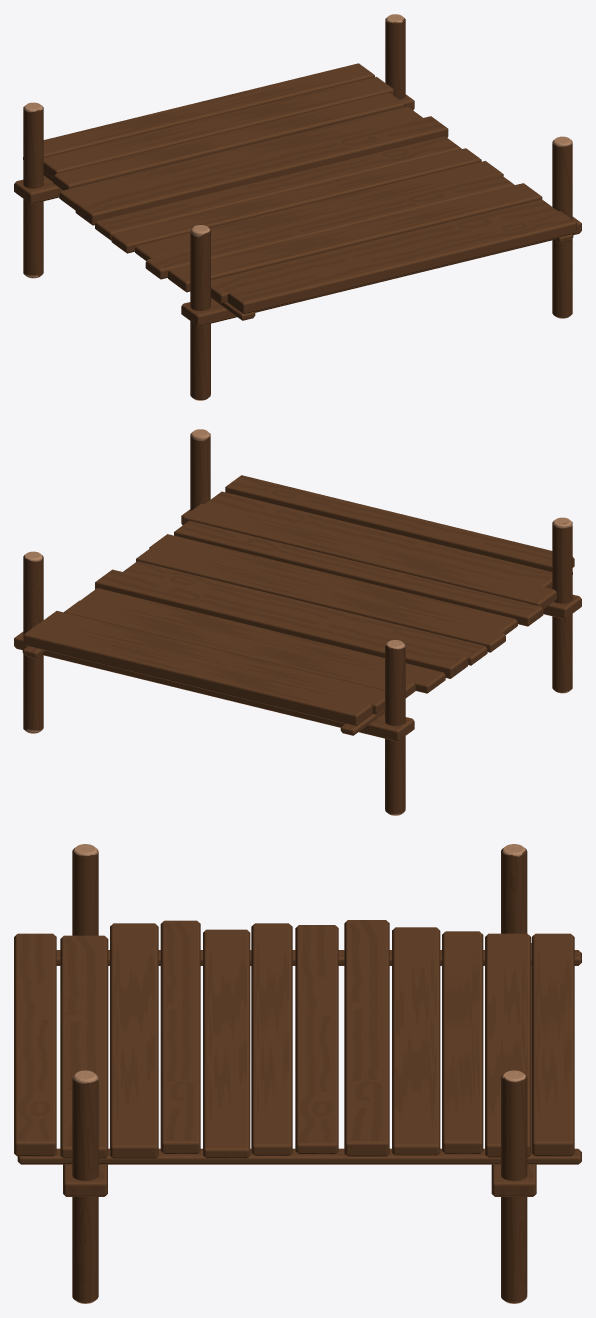
Rendered from M_Wide_Long_1.fbx.
The picture shows the model from 3 angles, top to bottom: view 1: azimuth 30°, elevation 25°; view 2: azimuth 150°, elevation 25°; view 3: azimuth 270°, elevation 25°; orthographic projection. The views are drawn at different scales.
Parts seen in each view (by area): view 1: M_Wide_Long_1; view 2: M_Wide_Long_1; view 3: M_Wide_Long_1.
Part boxes in pixels (x1=…): M_Wide_Long_1: x1=14, y1=14, x2=581, y2=400; M_Wide_Long_1: x1=14, y1=429, x2=581, y2=815; M_Wide_Long_1: x1=14, y1=844, x2=581, y2=1303.
Bounding box in the file's own units: 800 × 348 × 795.
